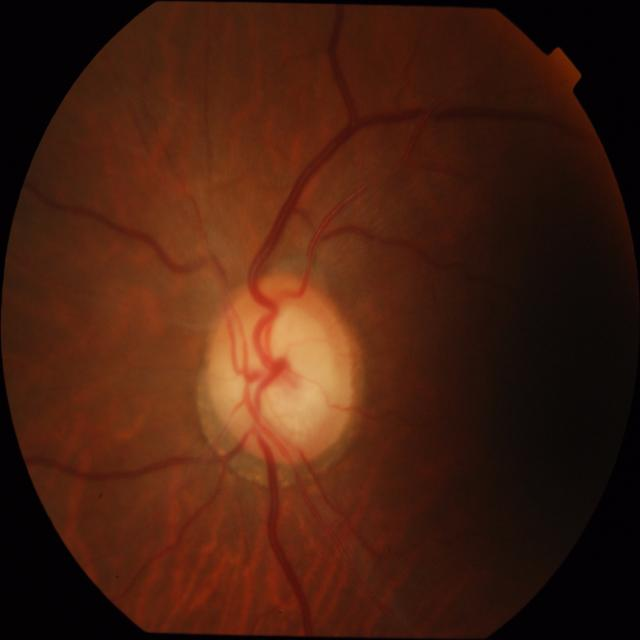OC: (222, 306, 336, 435)
OD: (207, 273, 355, 464)
